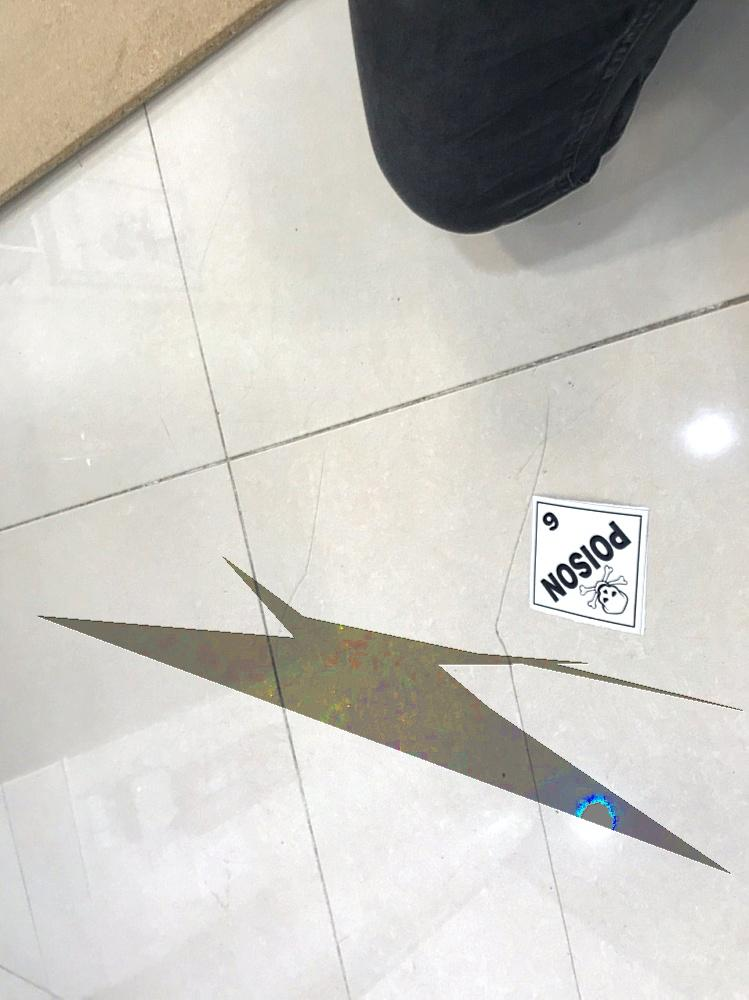poison: (526, 490, 658, 640)
